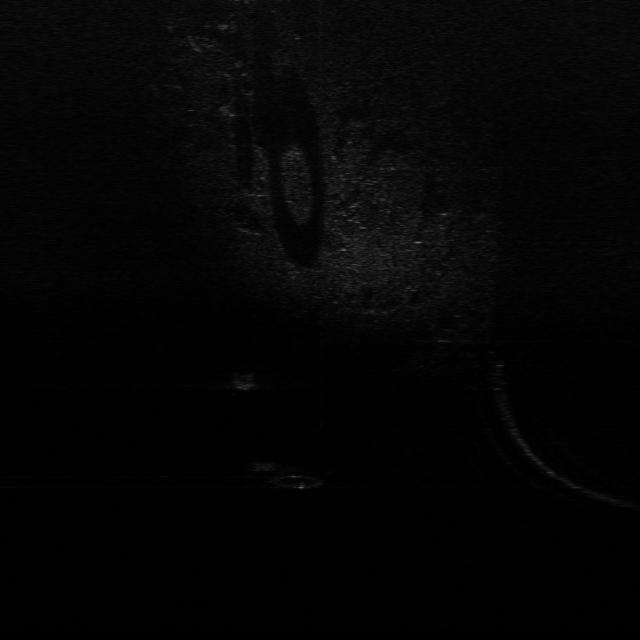cube: (243, 457, 282, 472)
square cage: (228, 368, 261, 391)
tyre: (267, 463, 329, 490)
